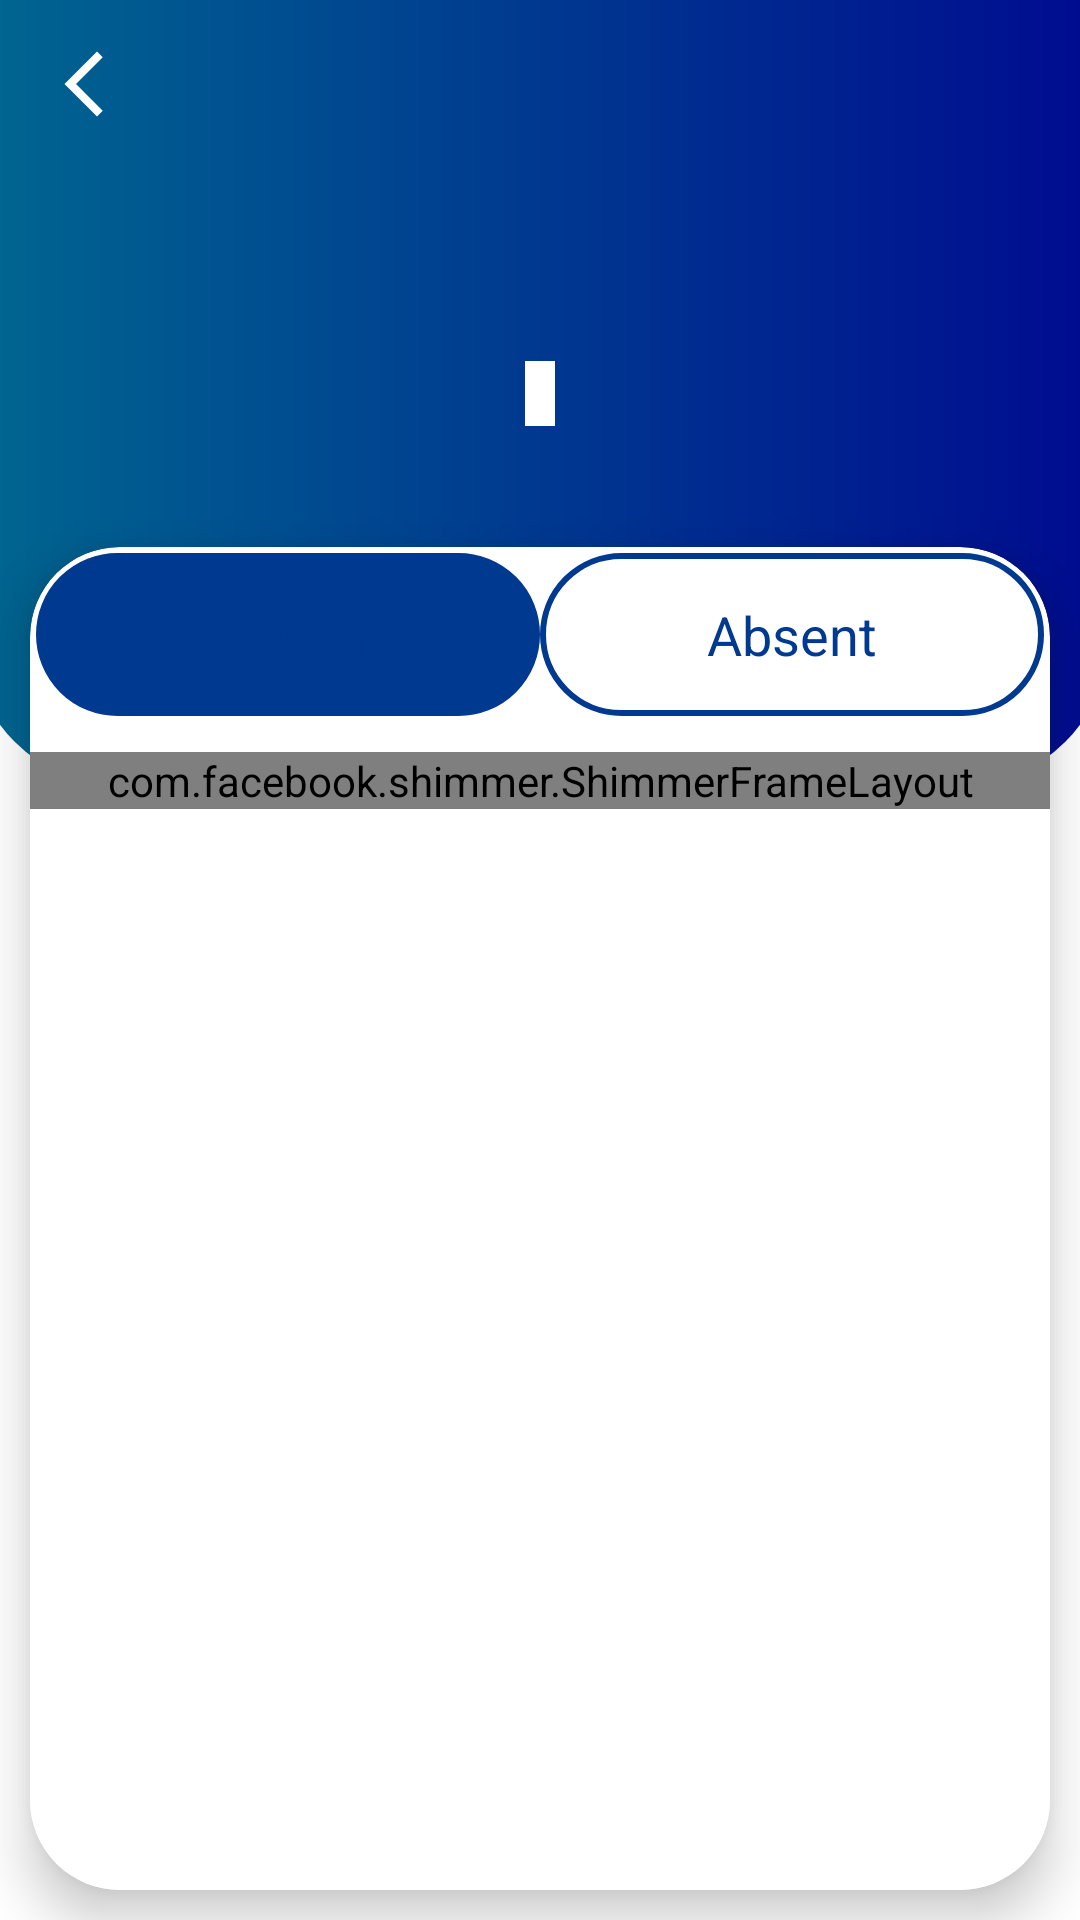

Point at icon controls on the screen. Image size 1080 x 1920, points as point (x, y).
arrow back: point (83, 84)
